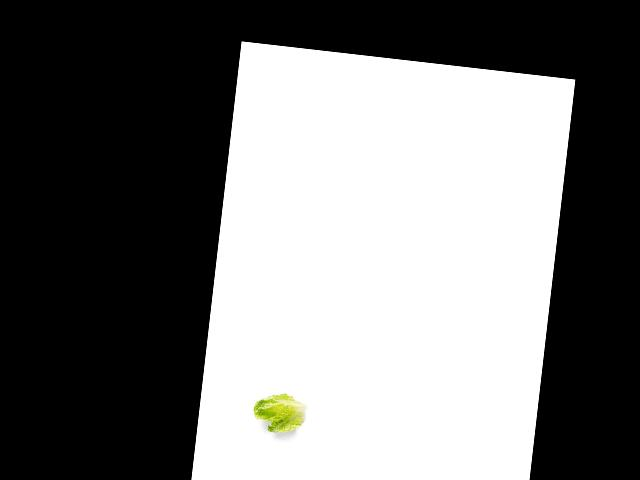lettuce: (248, 388, 313, 437)
